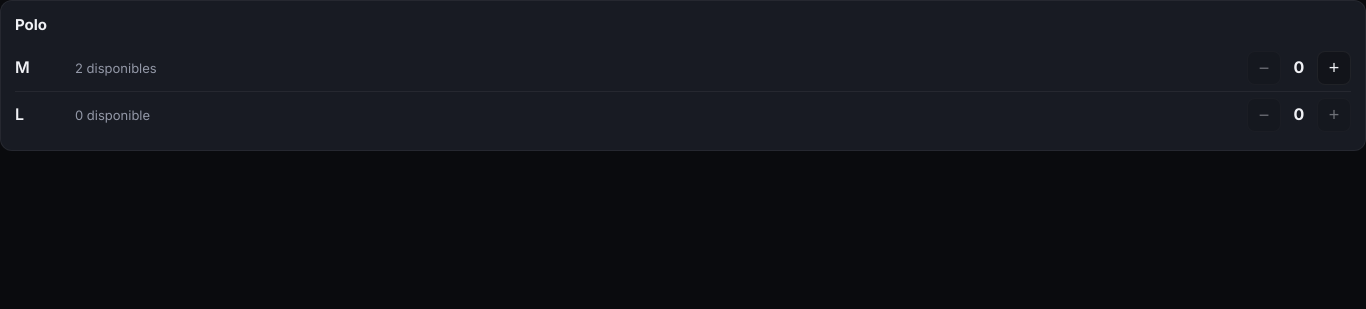
Test: UniformCatalog › borne le panier au disponible
Click the button named "Ajouter un Polo M au panier" at (1334, 68), box [1317,51,1351,85]
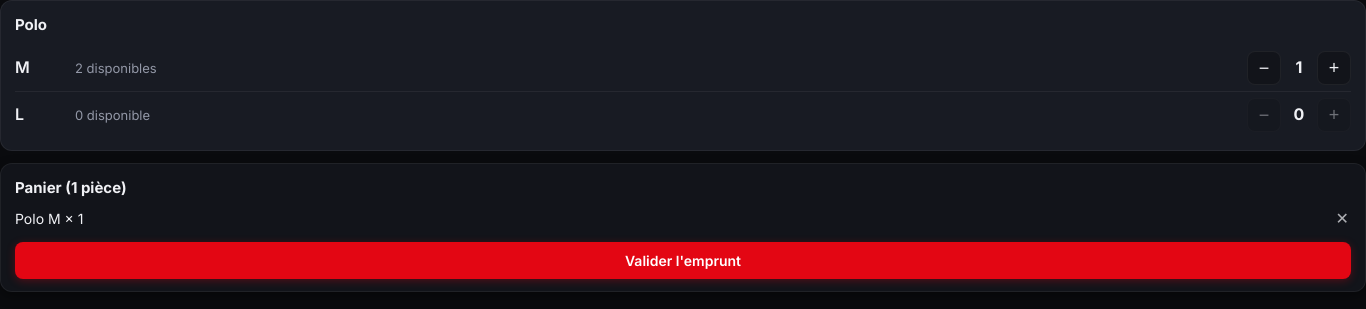
Click the button named "Ajouter un Polo M au panier" at (1334, 68), box [1317,51,1351,85]
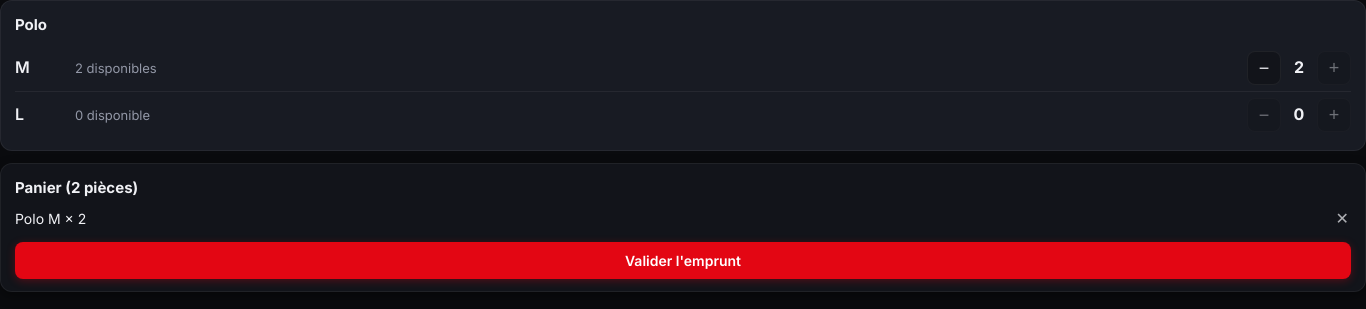
Check: the button named "Ajouter un Polo M au panier" is disabled, box [1317,51,1351,85]
Check: the text "Polo M × 2" is shown, box [15,210,86,227]
Check: the heading "Panier (2 pièces)" is shown, box [15,178,138,197]
